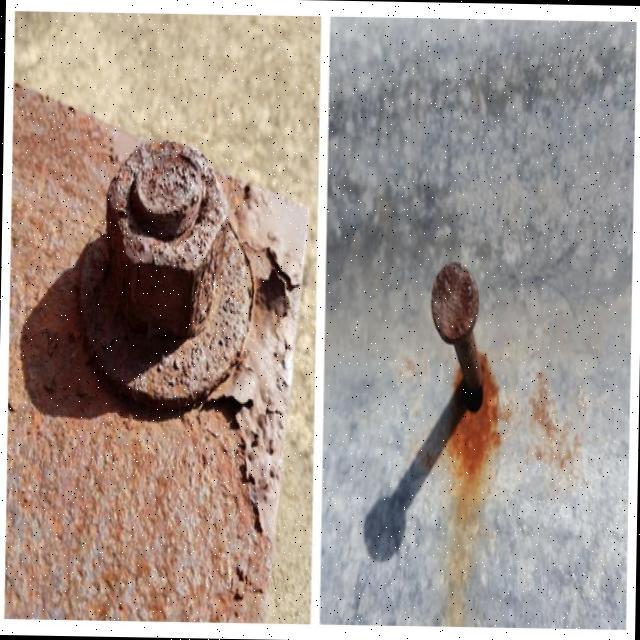Corrosion: (4, 82, 309, 622), (74, 136, 256, 408), (423, 260, 504, 625)
